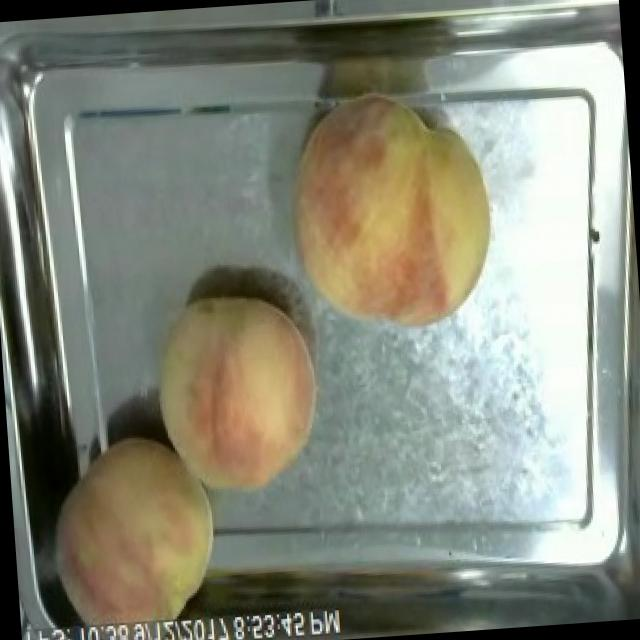Fruit: (272, 81, 511, 342), (138, 280, 332, 508), (29, 424, 230, 633)
